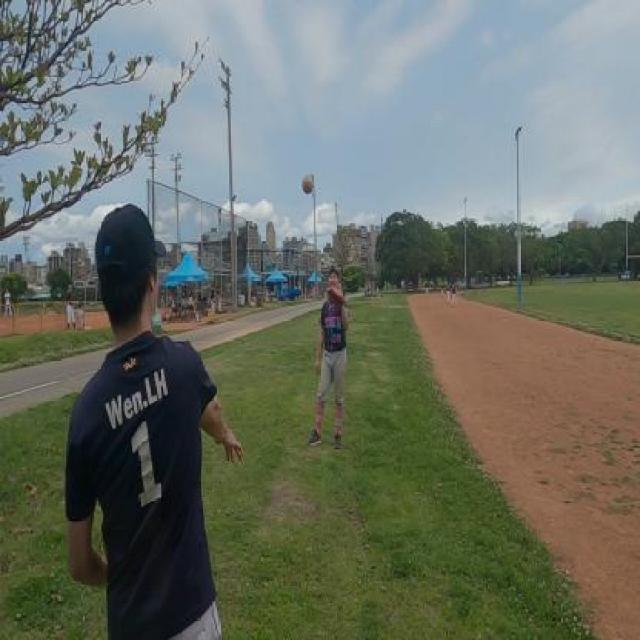baseball: (301, 174, 314, 194)
